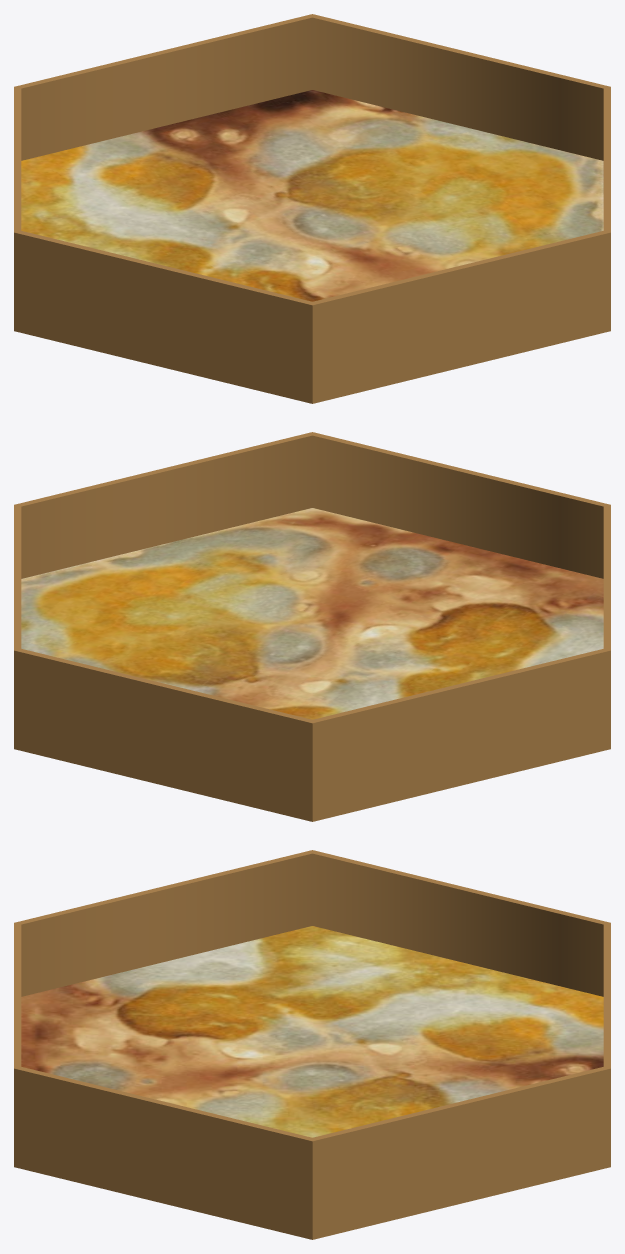
Rendered from Yellow_OrganicGlassValetTray.glb.
3 renders of one model, top to bottom at view 1: azimuth 30°, elevation 25°; view 2: azimuth 150°, elevation 25°; view 3: azimuth 270°, elevation 25°, orthographic.
Visible parts, largest first — view 1: model; view 2: model; view 3: model.
Boxes of the visible parts, bbox=[...] form: model: bbox=[14, 14, 610, 403]; model: bbox=[14, 432, 610, 821]; model: bbox=[14, 850, 610, 1239].
Size of the model in its own units: 0.19 by 0.03 by 0.1645.
2 materials, 1 textured.
